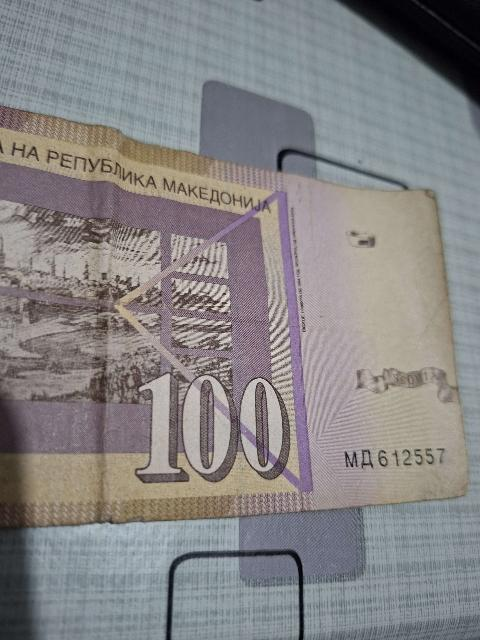100_note: (0, 109, 467, 526)
